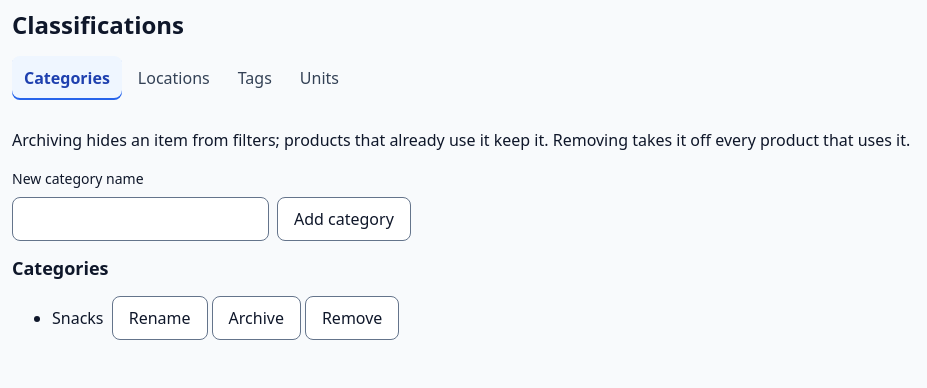
Test: ClassificationsPage › Categories › rename › Cancel leaves everything unchanged
Click the button with aria-label "Rename Snacks": coordinates (160, 318) [112,296,208,340]
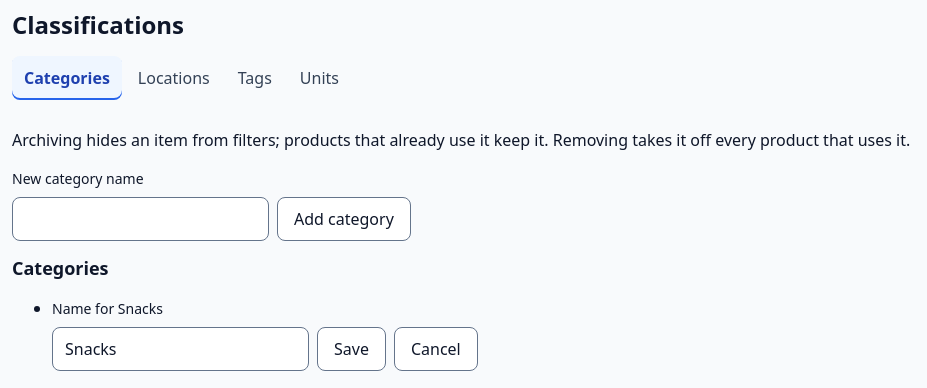
Click the button "Cancel": coordinates (436, 349) [394,327,478,371]
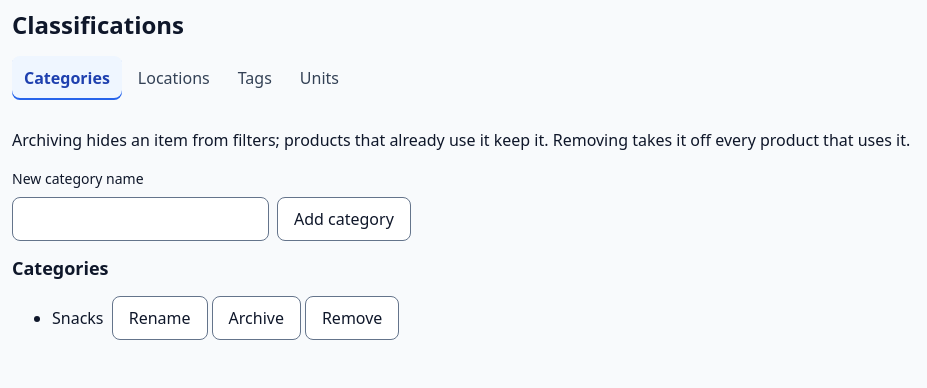
Check: the text "Snacks" is shown, box [52,307,104,329]
Check: the label labelled "Name for Snacks" is gone
